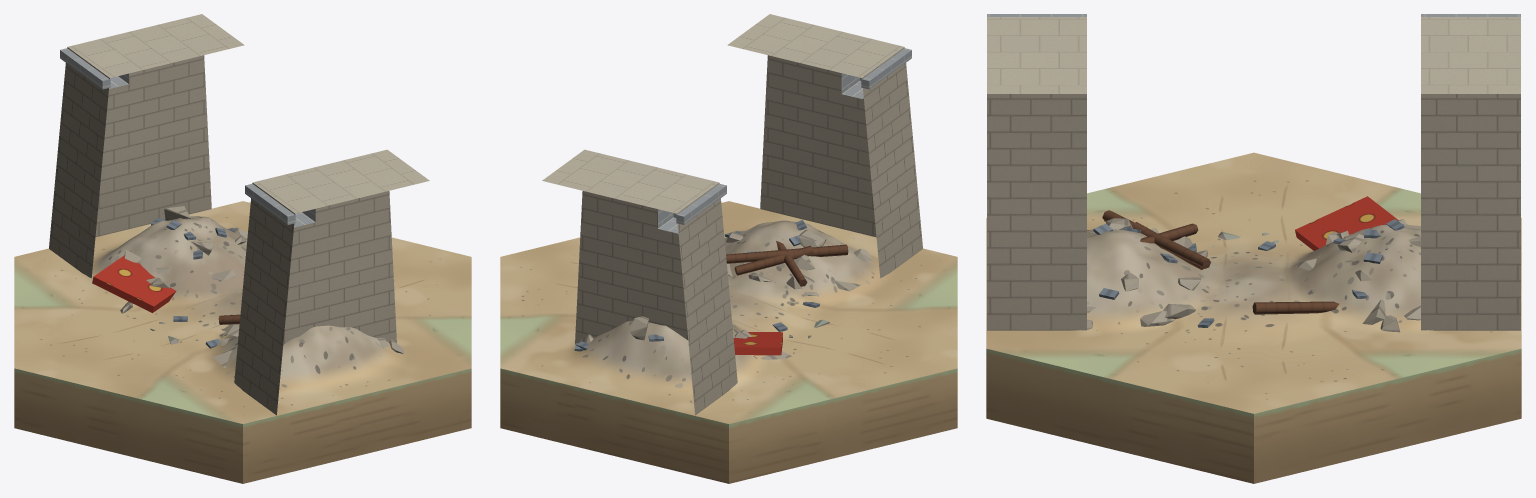
The model's file is Hex_Rubble.glb.
3 renders of one model, left to right at view 1: azimuth 30°, elevation 25°; view 2: azimuth 150°, elevation 25°; view 3: azimuth 270°, elevation 25°, orthographic. The views are drawn at different scales.
Visible parts, largest first — view 1: Hex_Rubble; view 2: Hex_Rubble; view 3: Hex_Rubble.
Boxes of the visible parts, x1,y1,x2,y2 form: Hex_Rubble: (14, 14, 471, 483); Hex_Rubble: (500, 14, 957, 483); Hex_Rubble: (986, 14, 1521, 483).
Bounding box in the file's own units: 8 × 4.3 × 6.93.
Materials: 2 (2 with a texture image).
